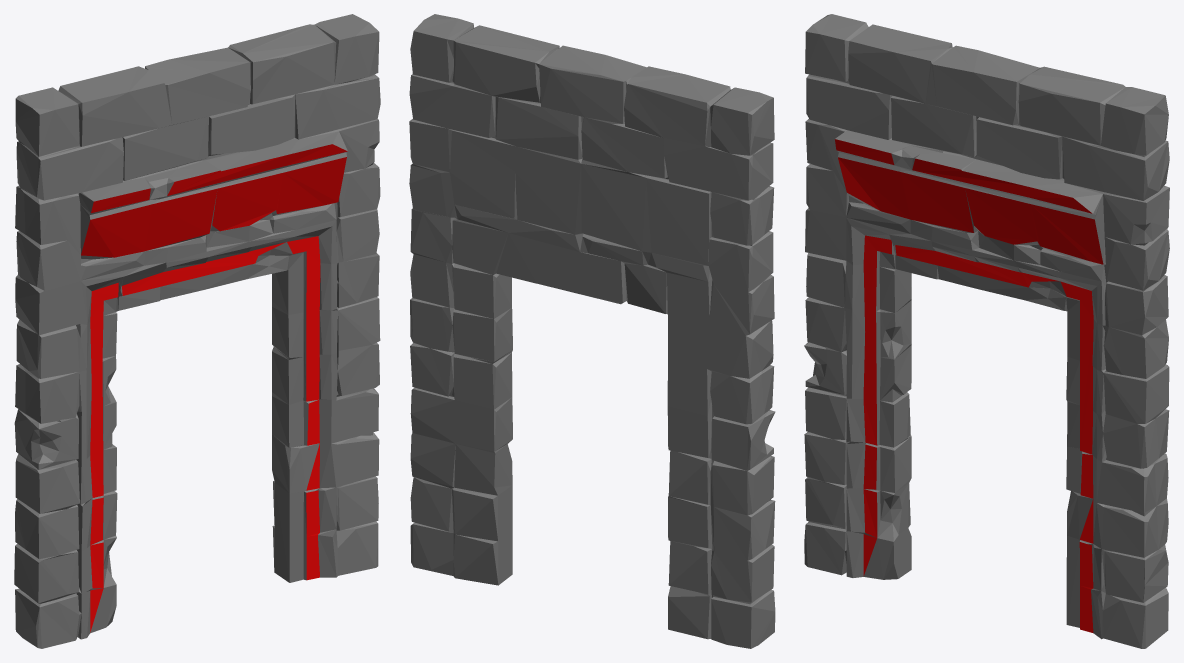
The model's file is WallDoor03.fbx.
3 renders of one model, left to right at view 1: azimuth 30°, elevation 25°; view 2: azimuth 150°, elevation 25°; view 3: azimuth 330°, elevation 25°, orthographic.
Visible parts, largest first — view 1: WallDoor03; view 2: WallDoor03; view 3: WallDoor03.
Boxes of the visible parts, x1=… form: WallDoor03: x1=14, y1=14, x2=380, y2=648; WallDoor03: x1=409, y1=14, x2=775, y2=648; WallDoor03: x1=804, y1=14, x2=1169, y2=648.
Bounding box in the file's own units: 402 × 599 × 75.27.
